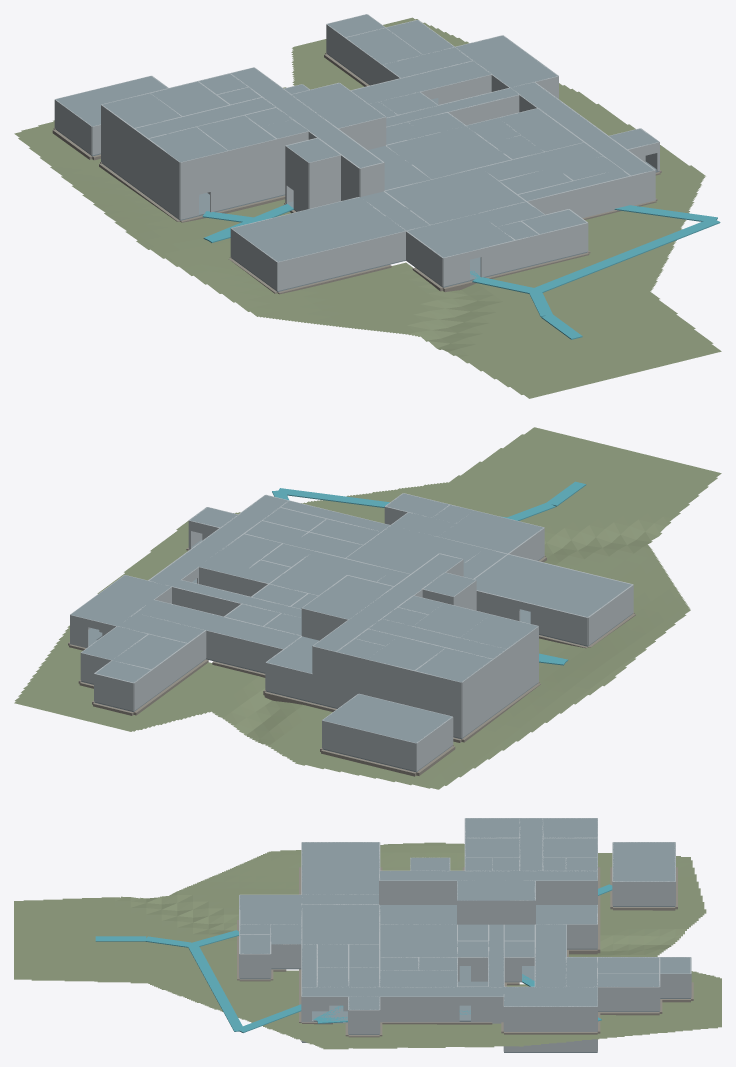
The model's file is open-circulation.glb.
3 views of the same model, one above another, from view 1: azimuth 30°, elevation 25°; view 2: azimuth 150°, elevation 25°; view 3: azimuth 270°, elevation 25° (orthographic). The views are drawn at different scales.
Visible parts, largest first — view 1: Saved editor macroterrain ASYLUM, Ceiling cap day, Ceiling cap dining, Wall day S, Ceiling cap treatment, Ceiling cap upper-spine, Ceiling cap service, Ceiling cap service-stair, Ceiling cap admission, Wall meal-return S, Ceiling cap service-link, Ceiling cap upper-stair (+51 smaller); view 2: Saved editor macroterrain ASYLUM, Ceiling cap day, Ceiling cap dining, Ceiling cap chapel, Ceiling cap upper-spine, Wall chapel N, Ceiling cap service, Ceiling cap service-link, Ceiling cap treatment, Ceiling cap service-stair, Ceiling cap admission, Ceiling cap upper-stair (+50 smaller); view 3: Saved editor macroterrain ASYLUM, Ceiling cap day, Flat route shell Wall service E, Ceiling cap dining, Ceiling cap treatment, Ceiling cap chapel, Wall service-stair E, Ceiling cap upper-spine, Ceiling cap service, Ceiling cap service-link, Wall upper-stair E, Flat route shell Wall upper-spine E.001 (+47 smaller).
Boxes of the visible parts, box(x1,y1,x2,y2) form: Saved editor macroterrain ASYLUM: box(14, 17, 721, 398); Ceiling cap day: box(232, 197, 405, 261); Ceiling cap dining: box(385, 168, 525, 224); Wall day S: box(277, 231, 405, 290); Ceiling cap treatment: box(387, 126, 511, 179); Ceiling cap upper-spine: box(231, 67, 382, 167); Ceiling cap service: box(511, 82, 653, 175); Ceiling cap service-stair: box(455, 36, 557, 87); Ceiling cap admission: box(407, 213, 513, 257); Wall meal-return S: box(527, 176, 631, 216); Ceiling cap service-link: box(351, 61, 490, 103); Ceiling cap upper-stair: box(292, 83, 385, 128); Saved editor macroterrain ASYLUM: box(14, 427, 721, 789); Ceiling cap day: box(474, 554, 631, 617); Ceiling cap dining: box(346, 525, 483, 573); Ceiling cap chapel: box(323, 694, 451, 743); Ceiling cap upper-spine: box(313, 554, 462, 651); Wall chapel N: box(322, 720, 416, 771); Ceiling cap service: box(149, 495, 287, 586); Ceiling cap service-link: box(136, 600, 300, 648); Ceiling cap treatment: box(270, 551, 391, 595); Ceiling cap service-stair: box(71, 575, 171, 626); Ceiling cap admission: box(438, 510, 543, 553); Ceiling cap upper-stair: box(302, 575, 392, 619); Saved editor macroterrain ASYLUM: box(14, 842, 721, 1049); Ceiling cap day: box(302, 842, 379, 894); Flat route shell Wall service E: box(323, 996, 503, 1020); Ceiling cap dining: box(302, 904, 379, 944); Ceiling cap treatment: box(380, 924, 457, 957); Ceiling cap chapel: box(613, 842, 675, 881); Wall service-stair E: box(504, 1006, 597, 1030); Ceiling cap upper-spine: box(379, 871, 597, 880); Ceiling cap service: box(302, 987, 503, 996); Ceiling cap service-link: box(535, 924, 566, 986); Wall upper-stair E: box(457, 900, 535, 924); Flat route shell Wall upper-spine E.001: box(379, 880, 464, 904).
Size of the model in its own units: 62 by 9.96 by 91.
